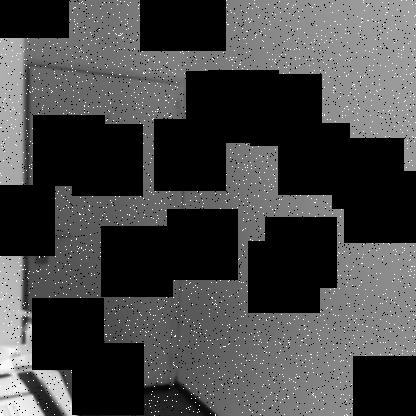Porte: (20, 58, 188, 411)
